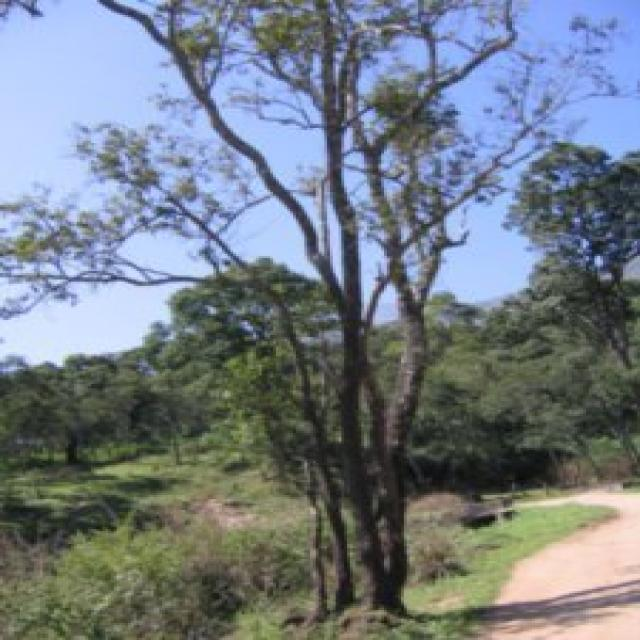Medicinal-Sandalwood: (149, 0, 501, 620)
